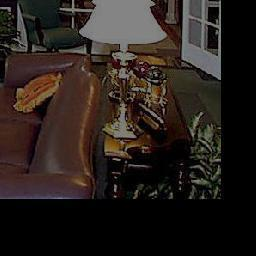Puerta: (186, 0, 220, 76)
